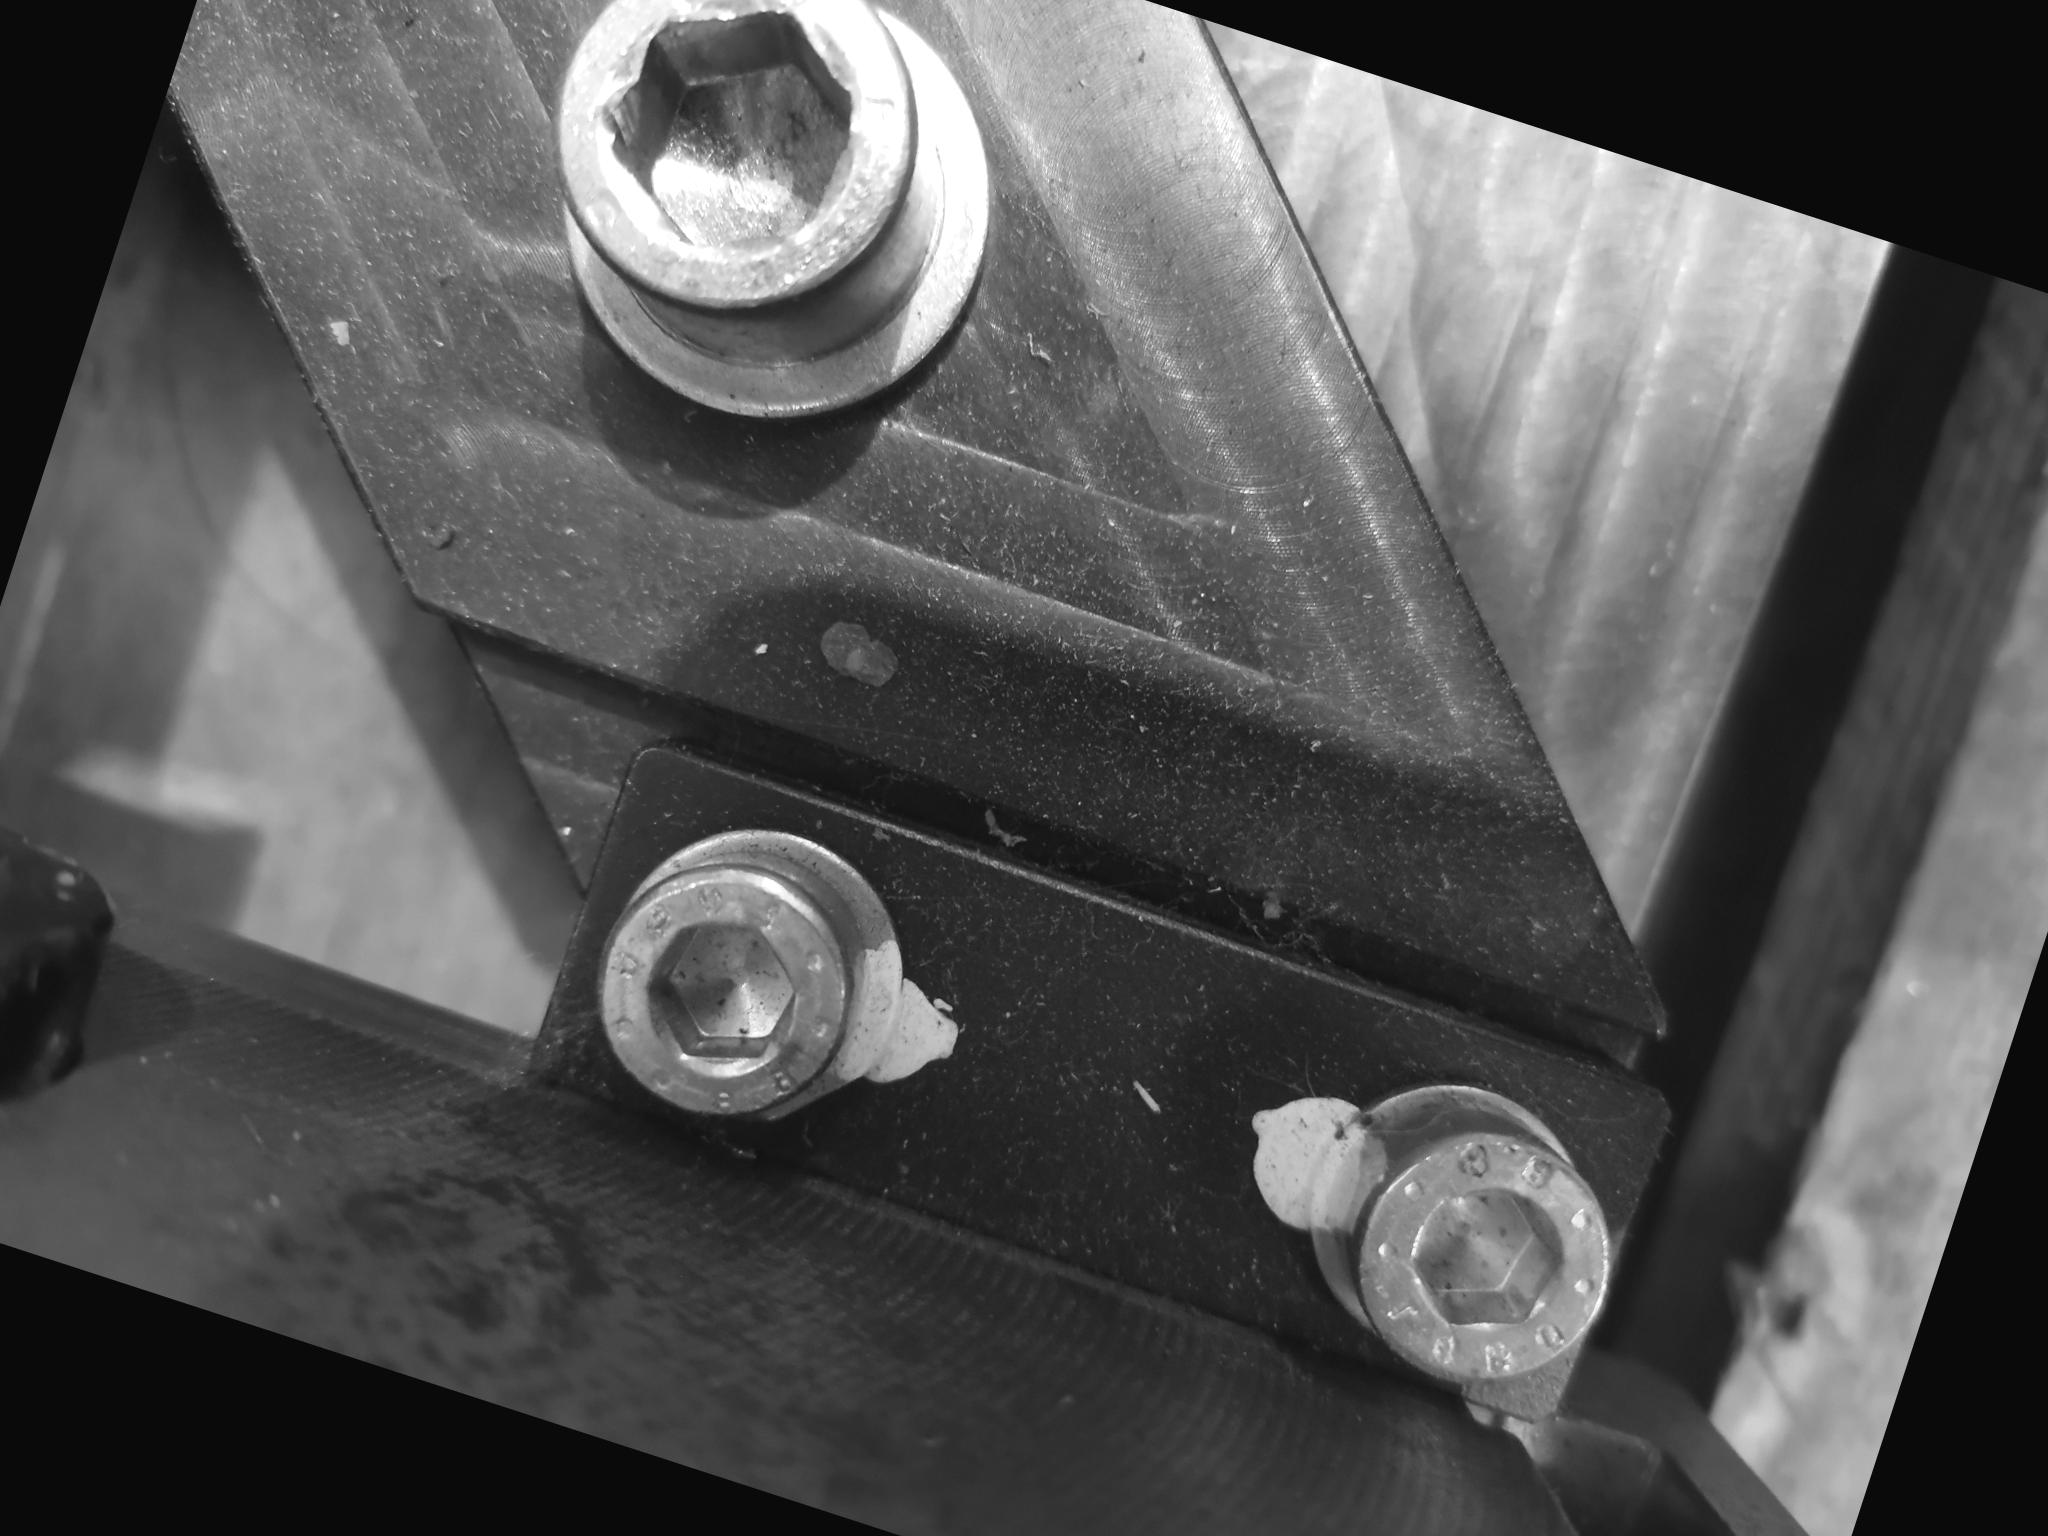allen: (481, 0, 1009, 419), (1272, 1028, 1667, 1420), (543, 774, 934, 1171)
